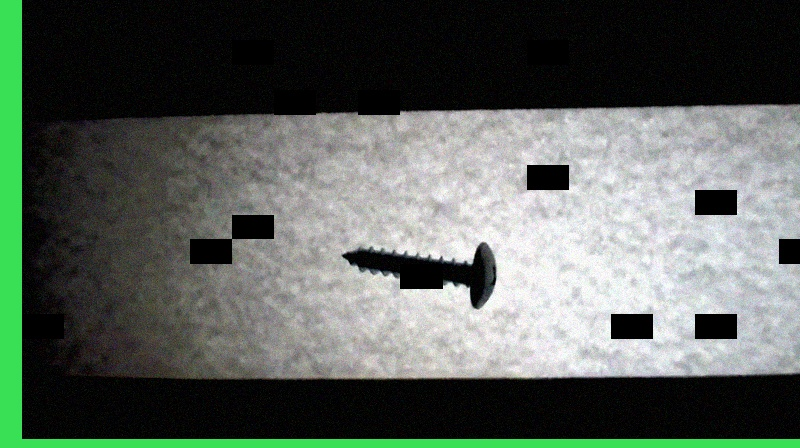S003: (338, 240, 500, 310)
